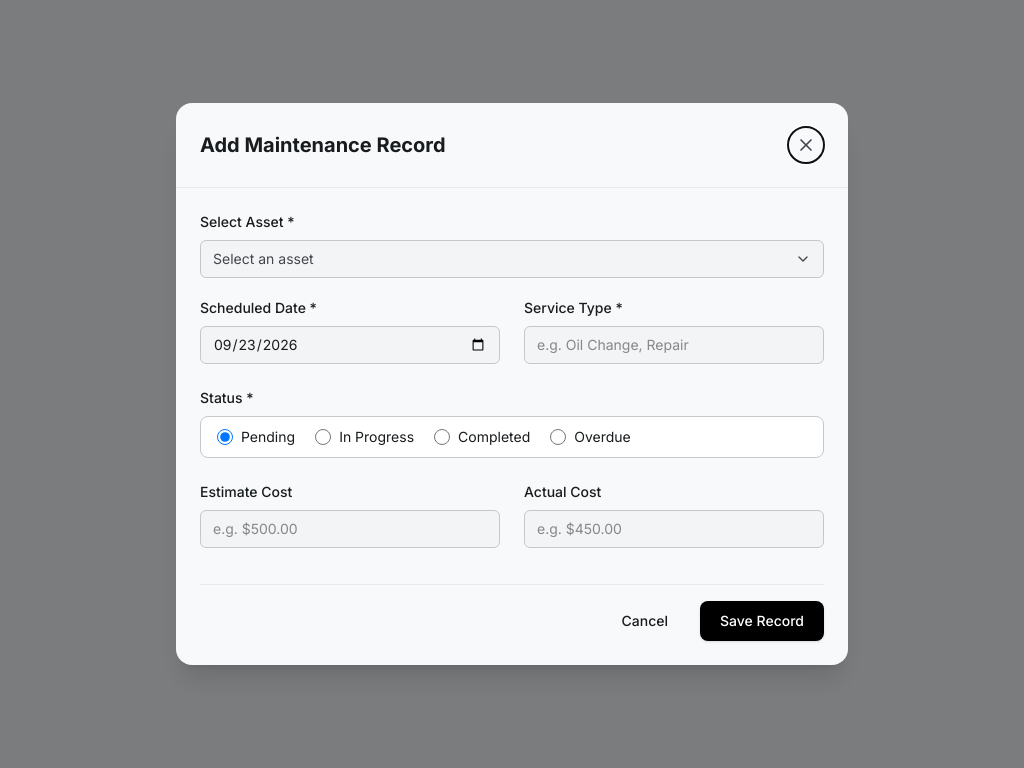
Test: AddMaintenanceModal — asset picker › filters by asset number and by description, case-insensitively
Click the button "Select an asset" at coordinates (263, 258), box [200,240,824,278]
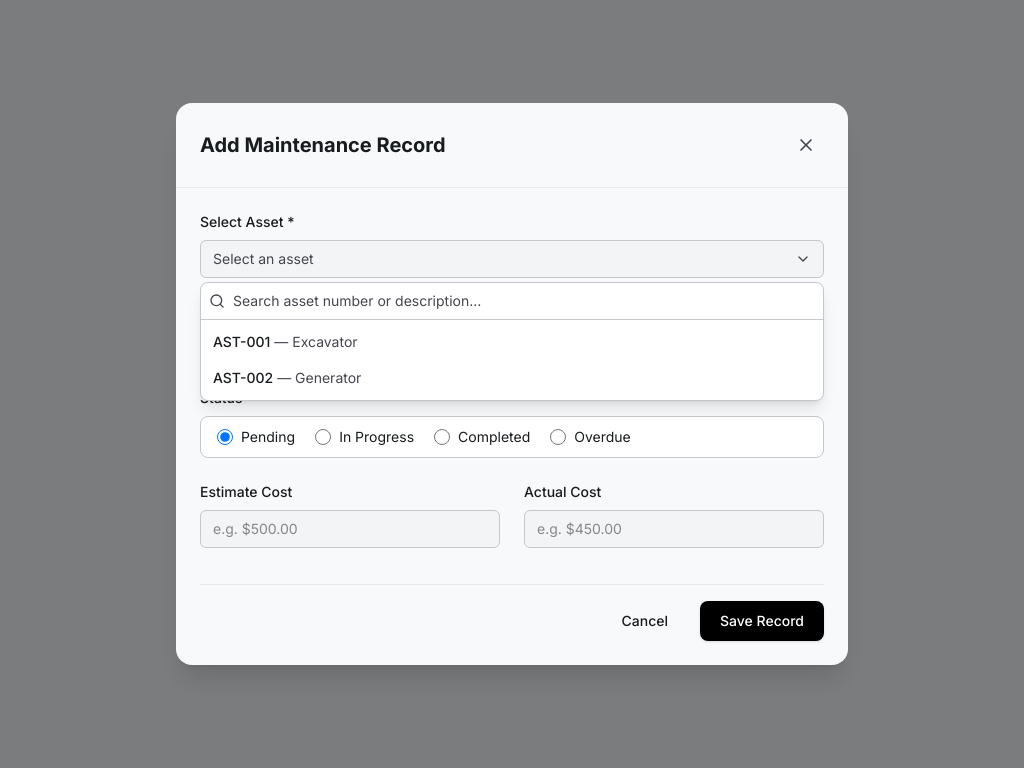
Type "ast-002" into the field with placeholder "Search asset number or description..." at coordinates (524, 301), box [233,291,815,311]
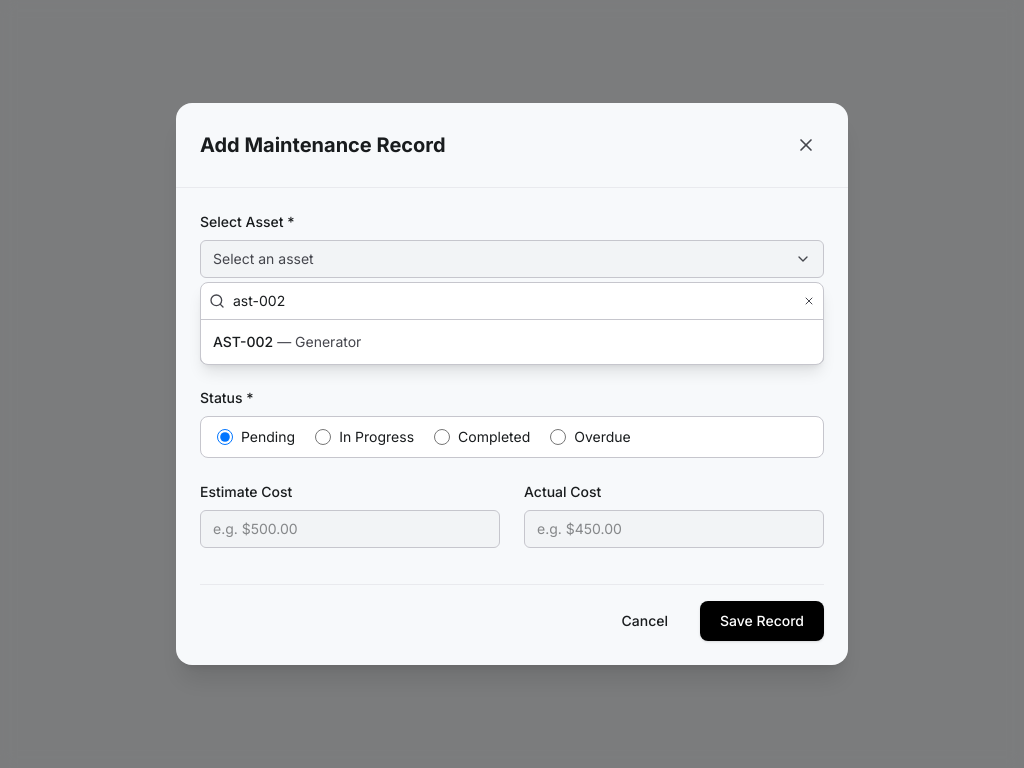
expect the text "AST-002" is shown: met, box [213,333,273,350]
expect the text "AST-001" is gone: met
Replace the text in the field with placeholder "Search asset number or description..." with "excav" at coordinates (514, 301), box [233,291,795,311]
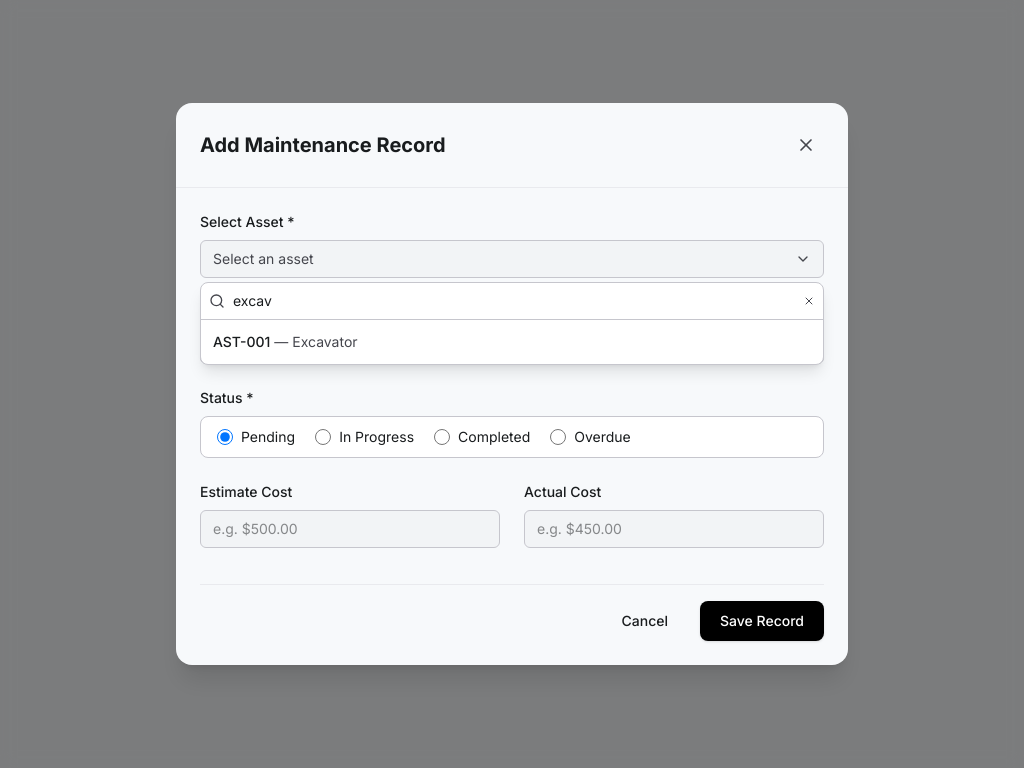
expect the text "AST-001" is shown: met, box [213,333,270,350]
expect the text "AST-002" is gone: met
